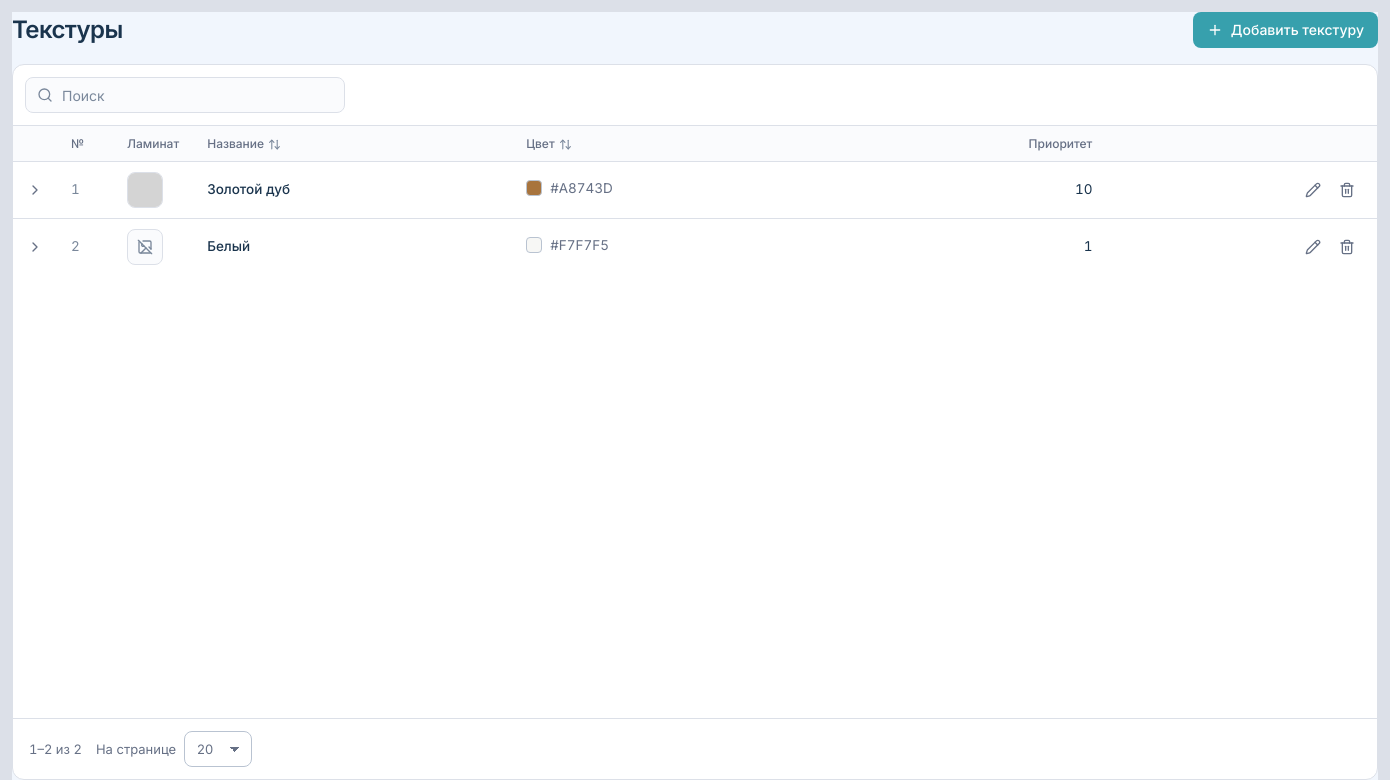
Textures › loads a texture’s matches only when its row is opened
The width and height of the screenshot is (1390, 780).
Expected: the text "Золотой дуб" is shown, [193,162,512,218]
Click the button named "Показать соответствия: Золотой дуб".
click(35, 190)  # box [21,176,49,204]
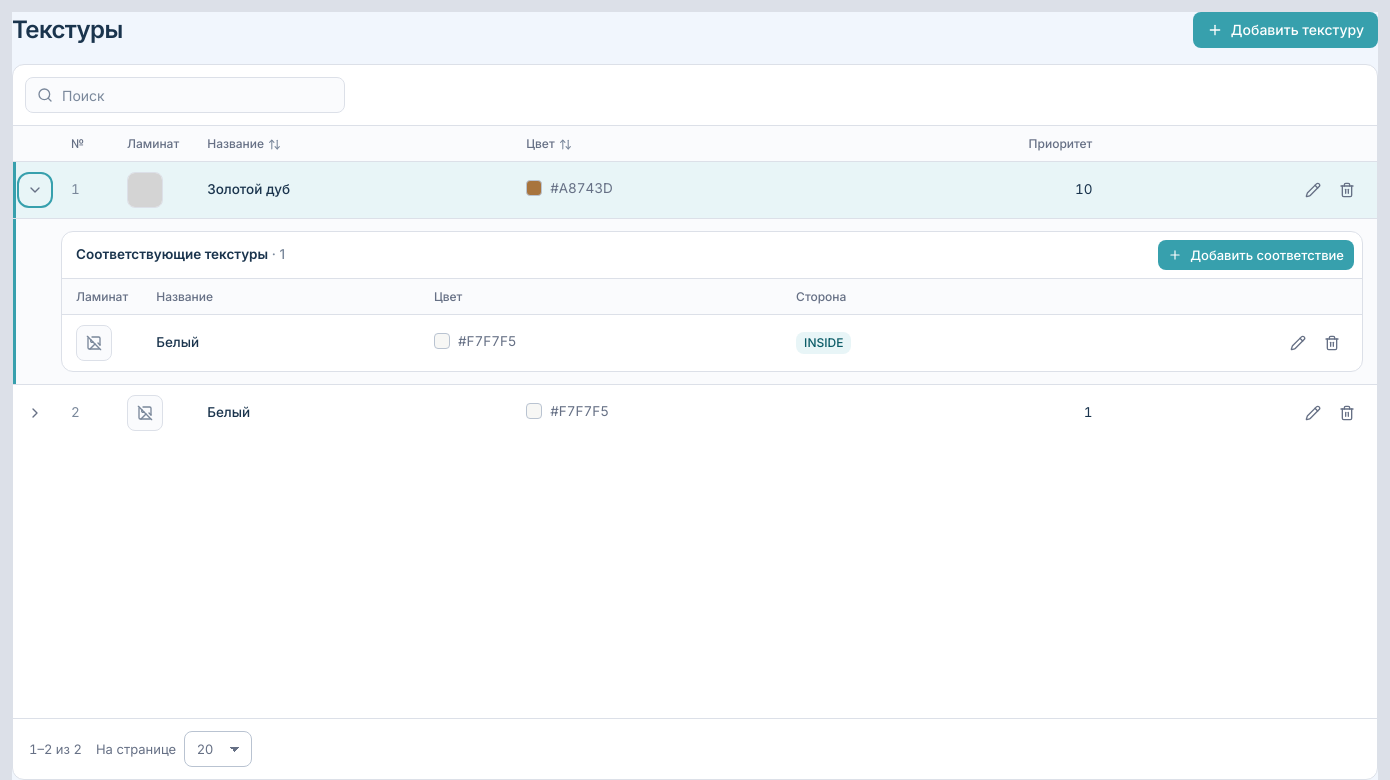
Result: the button named "Скрыть соответствия: Золотой дуб" is expanded at [21,176,49,204]
